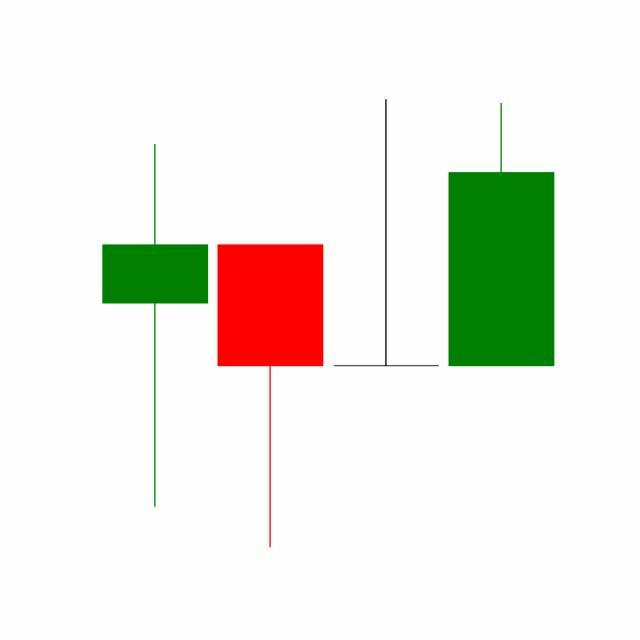Gravestone Doji: (329, 97, 445, 370)
